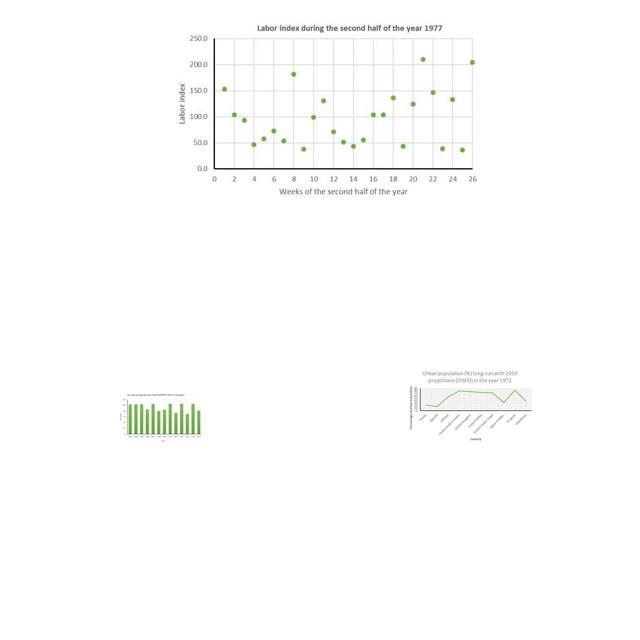Graph: (176, 22, 480, 198), (406, 369, 534, 442), (117, 392, 206, 444)
